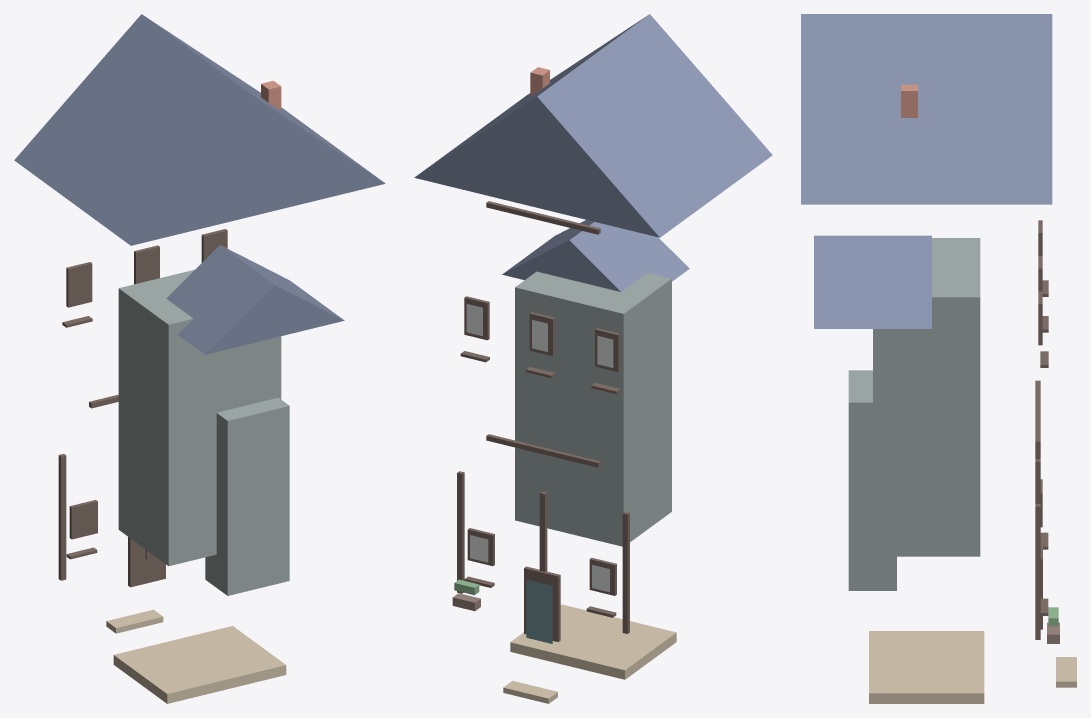
Rendered from moonhill-almanac-pavilion-01.glb.
3 renders of one model, left to right at view 1: azimuth 30°, elevation 25°; view 2: azimuth 150°, elevation 25°; view 3: azimuth 270°, elevation 25°, orthographic. The views are drawn at different scales.
Visible parts, largest first — view 1: roof, body, wing, wing_roof, plinth, door_frame, up_-0.82, uwf_1_-0.64, wf_-0.60, uwf_1_0.00, step; view 2: roof, body, wing_roof, plinth, door, door_frame, up_-0.82, up_0.82, beam_1, beam_2, step, up_0.00 (+3 smaller); view 3: roof, body, wing_roof, plinth, wing, up_0.82, step, chimney.
Part boxes in pixels (x1,y1,x2,y2): roof: (14, 14, 385, 245); body: (118, 269, 281, 566); wing: (205, 397, 289, 595); wing_roof: (166, 245, 344, 354); plinth: (113, 626, 286, 703); door_frame: (128, 537, 165, 587); up_-0.82: (58, 454, 66, 580); uwf_1_-0.64: (66, 262, 92, 307); wf_-0.60: (69, 500, 97, 539); uwf_1_0.00: (134, 245, 159, 284); step: (106, 609, 163, 633); roof: (414, 14, 772, 237); body: (515, 271, 671, 546); wing_roof: (502, 220, 689, 291); plinth: (510, 604, 676, 679); door: (526, 579, 552, 643); door_frame: (524, 566, 560, 642); up_-0.82: (622, 511, 629, 633); up_0.82: (457, 471, 464, 593); beam_1: (486, 434, 600, 467); beam_2: (486, 201, 600, 234); step: (503, 680, 557, 703); up_0.00: (539, 491, 547, 571); roof: (801, 14, 1052, 204); body: (873, 238, 980, 556); wing_roof: (814, 235, 931, 328); plinth: (869, 631, 984, 703); wing: (848, 370, 896, 590); up_0.82: (1035, 504, 1040, 639); step: (1056, 657, 1076, 687); chimney: (901, 84, 917, 117).
Bounding box in the file's own units: 2.43 × 5.61 × 2.12.
